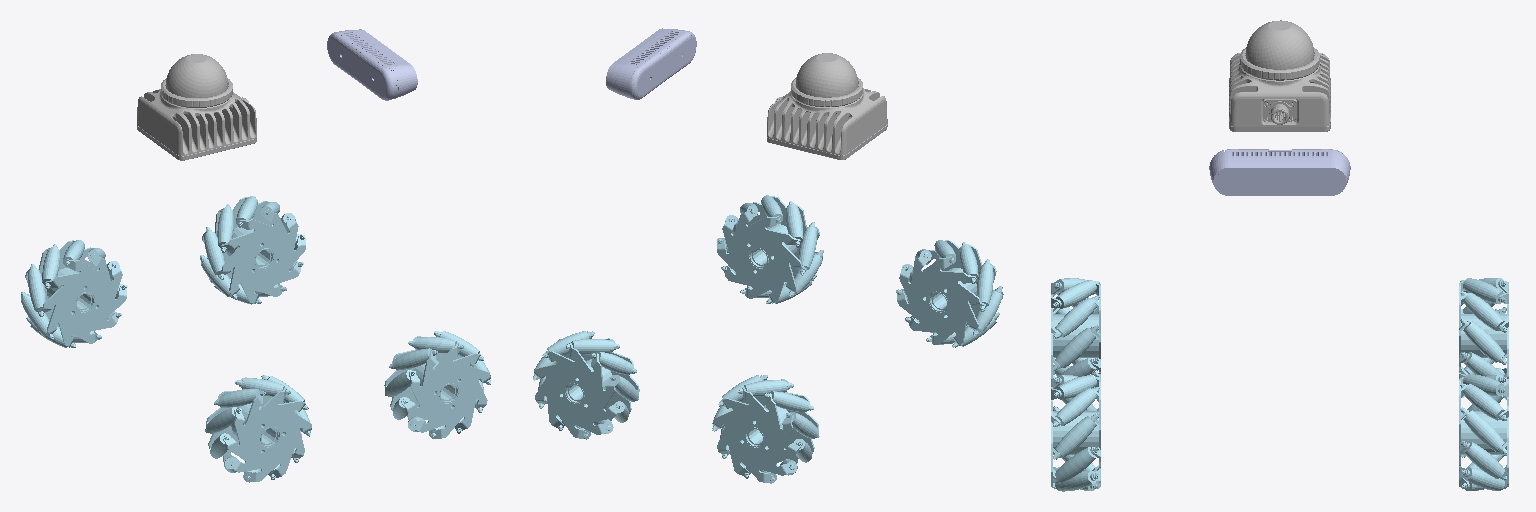
The robot description file, URDF, robot "hamburobot_mecanum_sw2urdf":
<?xml version="1.0" ?>
<!-- This URDF was automatically created by SolidWorks to URDF Exporter! Originally created by [author] ([email redacted]) 
     Commit Version: 1.6.0-4-g7f85cfe  Build Version: 1.6.7995.38578
     For more information, please see http://wiki.ros.org/sw_urdf_exporter -->
<robot
  name="hamburobot_mecanum_sw2urdf">
  <link name="base_footprint"/>

  <joint name="base_footprint_joint" type="fixed">
      <origin xyz="0 0 0.058" rpy="0 0 0" />
      <parent link="base_footprint"/>
      <child link="base_link" />
  </joint>

  <link
    name="base_link">
    <inertial>
      <origin
        xyz="0.0015220719484009 -0.0142451055165608 0.0679693338870609"
        rpy="0 0 0" />
      <mass
        value="2.40766174070448" />
      <inertia
        ixx="0.00536487523246144"
        ixy="-3.60061646830653E-06"
        ixz="1.6875677745376E-06"
        iyy="0.00624385615969261"
        iyz="2.197495557817E-06"
        izz="0.0112971311451681" />
    </inertial>
    <visual>
      <origin
        xyz="0 0 0"
        rpy="0 0 0" />
      <geometry>
        <mesh
          filename="package://hamburobot_mecanum_sw2urdf/meshes/base_link.STL" />
      </geometry>
      <material
        name="">
        <color
          rgba="1 1 1 1" />
      </material>
    </visual>
    <collision>
      <origin
        xyz="0 0 0"
        rpy="0 0 0" />
      <geometry>
        <mesh
          filename="package://hamburobot_mecanum_sw2urdf/meshes/base_link.STL" />
      </geometry>
    </collision>
  </link>
  <link
    name="front_left_link">
    <inertial>
      <origin
        xyz="1.12734363511002E-10 -0.0160115068591593 -5.60751545891636E-10"
        rpy="0 0 0" />
      <mass
        value="0.0481559444406492" />
      <inertia
        ixx="2.03933177207268E-05"
        ixy="6.00220672338477E-14"
        ixz="5.13477136358059E-13"
        iyy="3.30581870380513E-05"
        iyz="-7.96884985898082E-14"
        izz="2.03933175821204E-05" />
    </inertial>
    <visual>
      <origin
        xyz="0 0 0"
        rpy="0 0 0" />
      <geometry>
        <mesh
          filename="package://hamburobot_mecanum_sw2urdf/meshes/front_left_link.STL" />
      </geometry>
      <material
        name="">
        <color
          rgba="0.741176470588235 0.901960784313726 0.956862745098039 1" />
      </material>
    </visual>
    <collision>
      <origin
        xyz="0 0 0"
        rpy="0 0 0" />
      <geometry>
        <mesh
          filename="package://hamburobot_mecanum_sw2urdf/meshes/front_left_link.STL" />
      </geometry>
    </collision>
  </link>
  <joint
    name="front_left_joint"
    type="continuous">
    <origin
      xyz="0.0727512705401299 0.146 -0.0199999999993777"
      rpy="0 0 0" />
    <parent
      link="base_link" />
    <child
      link="front_left_link" />
    <axis
      xyz="0 1 0" />
  </joint>
  <link
    name="front_right_link">
    <inertial>
      <origin
        xyz="1.58815453704664E-08 0.0159924467984791 2.09160352232507E-08"
        rpy="0 0 0" />
      <mass
        value="0.0481556698836567" />
      <inertia
        ixx="2.03931355576674E-05"
        ixy="4.25100991424662E-13"
        ixz="-1.64672632339935E-12"
        iyy="3.30579291477114E-05"
        iyz="6.76960027072217E-12"
        izz="2.03931617135917E-05" />
    </inertial>
    <visual>
      <origin
        xyz="0 0 0"
        rpy="0 0 0" />
      <geometry>
        <mesh
          filename="package://hamburobot_mecanum_sw2urdf/meshes/front_right_link.STL" />
      </geometry>
      <material
        name="">
        <color
          rgba="0.741176470588235 0.901960784313726 0.956862745098039 1" />
      </material>
    </visual>
    <collision>
      <origin
        xyz="0 0 0"
        rpy="0 0 0" />
      <geometry>
        <mesh
          filename="package://hamburobot_mecanum_sw2urdf/meshes/front_right_link.STL" />
      </geometry>
    </collision>
  </link>
  <joint
    name="front_right_joint"
    type="continuous">
    <origin
      xyz="0.0732487294356269 -0.146 -0.0199999999898234"
      rpy="0 0 0" />
    <parent
      link="base_link" />
    <child
      link="front_right_link" />
    <axis
      xyz="0 1 0" />
  </joint>
  <link
    name="rear_left_link">
    <inertial>
      <origin
        xyz="2.23995683112932E-11 -0.0160115068591593 -5.7153262678078E-10"
        rpy="0 0 0" />
      <mass
        value="0.0481559444406491" />
      <inertia
        ixx="2.03933178780091E-05"
        ixy="4.66279845960775E-14"
        ixz="4.65962141580749E-13"
        iyy="3.30581870380512E-05"
        iyz="-8.81971386897979E-14"
        izz="2.0393317424838E-05" />
    </inertial>
    <visual>
      <origin
        xyz="0 0 0"
        rpy="0 0 0" />
      <geometry>
        <mesh
          filename="package://hamburobot_mecanum_sw2urdf/meshes/rear_left_link.STL" />
      </geometry>
      <material
        name="">
        <color
          rgba="0.741176470588235 0.901960784313726 0.956862745098039 1" />
      </material>
    </visual>
    <collision>
      <origin
        xyz="0 0 0"
        rpy="0 0 0" />
      <geometry>
        <mesh
          filename="package://hamburobot_mecanum_sw2urdf/meshes/rear_left_link.STL" />
      </geometry>
    </collision>
  </link>
  <joint
    name="rear_left_joint"
    type="continuous">
    <origin
      xyz="-0.0732487294597767 0.146 -0.0199999999994514"
      rpy="0 0 0" />
    <parent
      link="base_link" />
    <child
      link="rear_left_link" />
    <axis
      xyz="0 1 0" />
  </joint>
  <link
    name="rear_right_link">
    <inertial>
      <origin
        xyz="4.67195694492384E-08 0.0159924414439735 -1.05456903314038E-08"
        rpy="0 0 0" />
      <mass
        value="0.0481557058503501" />
      <inertia
        ixx="2.03931655208453E-05"
        ixy="9.92746403633751E-12"
        ixz="3.44040052517717E-11"
        iyy="3.30579701522931E-05"
        iyz="-2.35855300348972E-12"
        izz="2.03931756337084E-05" />
    </inertial>
    <visual>
      <origin
        xyz="0 0 0"
        rpy="0 0 0" />
      <geometry>
        <mesh
          filename="package://hamburobot_mecanum_sw2urdf/meshes/rear_right_link.STL" />
      </geometry>
      <material
        name="">
        <color
          rgba="0.741176470588235 0.901960784313726 0.956862745098039 1" />
      </material>
    </visual>
    <collision>
      <origin
        xyz="0 0 0"
        rpy="0 0 0" />
      <geometry>
        <mesh
          filename="package://hamburobot_mecanum_sw2urdf/meshes/rear_right_link.STL" />
      </geometry>
    </collision>
  </link>
  <joint
    name="rear_right_joint"
    type="continuous">
    <origin
      xyz="-0.0727512705497122 -0.146 -0.0199999999752682"
      rpy="0 0 0" />
    <parent
      link="base_link" />
    <child
      link="rear_right_link" />
    <axis
      xyz="0 1 0" />
  </joint>
  <link
    name="laser_link">
    <inertial>
      <origin
        xyz="0.000199578588783535 6.35679438556179E-06 -0.0380654061376524"
        rpy="0 0 0" />
      <mass
        value="0.141887348399494" />
      <inertia
        ixx="4.17977417102379E-05"
        ixy="-5.52583550307152E-09"
        ixz="-3.05328896177203E-07"
        iyy="4.50773283450384E-05"
        iyz="4.39691434334916E-10"
        izz="6.8799827248141E-05" />
    </inertial>
    <visual>
      <origin
        xyz="0 0 0"
        rpy="0 0 0" />
      <geometry>
        <mesh
          filename="package://hamburobot_mecanum_sw2urdf/meshes/laser_link.STL" />
      </geometry>
      <material
        name="">
        <color
          rgba="0.752941176470588 0.752941176470588 0.752941176470588 1" />
      </material>
    </visual>
    <collision>
      <origin
        xyz="0 0 0"
        rpy="0 0 0" />
      <geometry>
        <mesh
          filename="package://hamburobot_mecanum_sw2urdf/meshes/laser_link.STL" />
      </geometry>
    </collision>
  </link>
  <joint
    name="laser_joint"
    type="fixed">
    <origin
      xyz="-0.0479999999999996 0 0.2100971"
      rpy="0 0 0" />
    <parent
      link="base_link" />
    <child
      link="laser_link" />
    <axis
      xyz="0 0 0" />
  </joint>
  <link
    name="camer_link">
    <inertial>
      <origin
        xyz="-0.0125484866989141 -0.00229321310091865 -6.0569148806866E-05"
        rpy="0 0 0" />
      <mass
        value="0.0447520698165274" />
      <inertia
        ixx="2.72774831609136E-05"
        ixy="2.44350452128318E-07"
        ixz="-1.17473508294145E-09"
        iyy="3.94471452699667E-06"
        iyz="-2.80418538661178E-09"
        izz="2.73620467887244E-05" />
    </inertial>
    <visual>
      <origin
        xyz="0 0 0"
        rpy="0 0 0" />
      <geometry>
        <mesh
          filename="package://hamburobot_mecanum_sw2urdf/meshes/camer_link.STL" />
      </geometry>
      <material
        name="">
        <color
          rgba="0.792156862745098 0.819607843137255 0.933333333333333 1" />
      </material>
    </visual>
    <collision>
      <origin
        xyz="0 0 0"
        rpy="0 0 0" />
      <geometry>
        <mesh
          filename="package://hamburobot_mecanum_sw2urdf/meshes/camer_link.STL" />
      </geometry>
    </collision>
  </link>
  <joint
    name="camer_joint"
    type="fixed">
    <origin
      xyz="0.10678300691308 0.00254273397883267 0.1726"
      rpy="0 0 0" />
    <parent
      link="base_link" />
    <child
      link="camer_link" />
    <axis
      xyz="0 0 0" />
  </joint>
</robot>

--- Facts derived from the render (not from the file) ---
3 views of the same robot in one strip: view 1: azimuth 30°, elevation 25°; view 2: azimuth 150°, elevation 25°; view 3: azimuth 270°, elevation 25° (orthographic).
Robot: hamburobot_mecanum_sw2urdf — 8 links, 7 joints (4 continuous, 3 fixed); root link base_footprint; default pose: every joint at zero.
Visible links, largest first — view 1: laser_link, rear_left_link, front_right_link, front_left_link, rear_right_link, camer_link; view 2: laser_link, rear_left_link, front_right_link, front_left_link, rear_right_link, camer_link; view 3: laser_link, camer_link, front_right_link, front_left_link, rear_right_link, rear_left_link.
Link boxes in pixels (<box>): laser_link: <box>137,54,256,160</box>; rear_left_link: <box>21,240,127,347</box>; front_right_link: <box>384,331,490,438</box>; front_left_link: <box>200,196,305,304</box>; rear_right_link: <box>205,375,311,482</box>; camer_link: <box>327,29,417,100</box>; laser_link: <box>767,53,887,159</box>; rear_left_link: <box>712,375,819,483</box>; front_right_link: <box>717,195,823,303</box>; front_left_link: <box>533,331,639,439</box>; rear_right_link: <box>896,240,1003,347</box>; camer_link: <box>606,28,696,99</box>; laser_link: <box>1229,20,1330,131</box>; camer_link: <box>1209,149,1350,195</box>; front_right_link: <box>1051,375,1100,491</box>; front_left_link: <box>1459,374,1508,490</box>; rear_right_link: <box>1051,278,1100,379</box>; rear_left_link: <box>1459,278,1508,378</box>.
Size in the robot's own frame: 0.2209 by 0.292 by 0.2673 metres.
6 mesh visuals loaded from 7 distinct referenced files (6 binary STL); not drawn: 1 (reference not matched to a file when rendering).